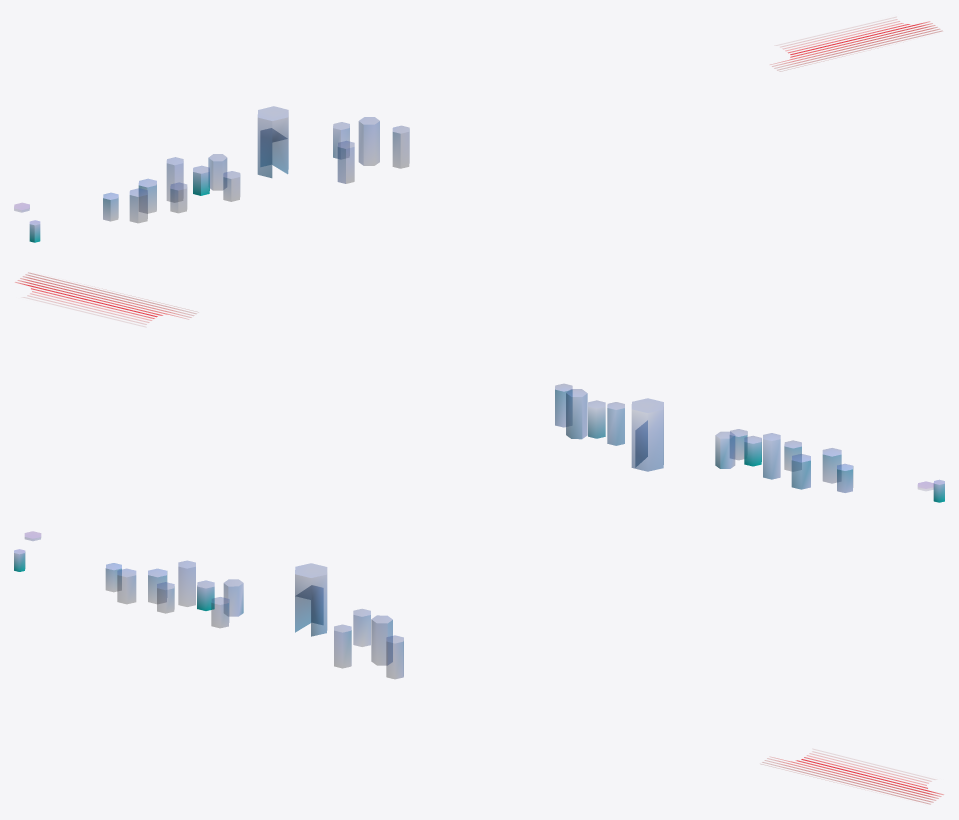
File: level7.glb
3 views of the same model, one above another, from view 1: azimuth 30°, elevation 25°; view 2: azimuth 150°, elevation 25°; view 3: azimuth 330°, elevation 25° (orthographic). The views are drawn at different scales.
Visible parts, largest first — view 1: stage7; view 2: stage7; view 3: stage7.
Part boxes in pixels (x1,y1,x2,y2): stage7: (14,19,942,242); stage7: (15,272,944,502); stage7: (14,531,943,804).
Size of what is drawn, in the model's own units: 91.14 by 6.09 by 7.24.
Materials: 2 (1 with a texture image).
